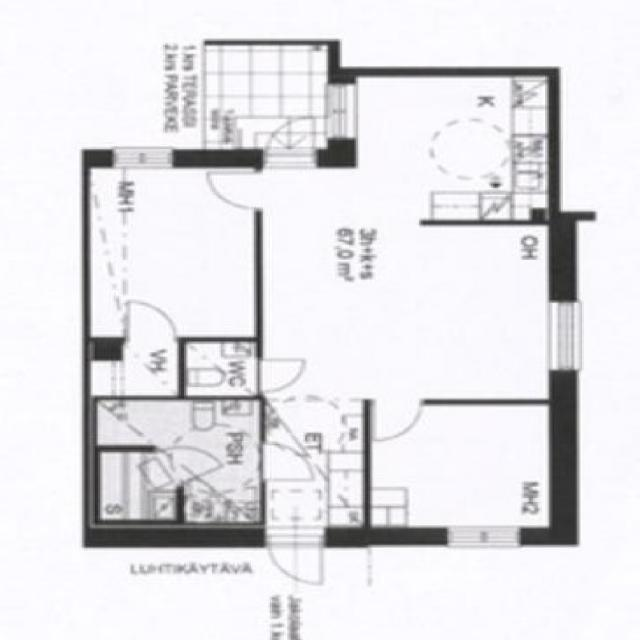door: (147, 432, 222, 488), (267, 527, 325, 589), (267, 112, 316, 166), (256, 443, 313, 479), (211, 172, 266, 208), (374, 395, 420, 438), (130, 303, 172, 343), (256, 360, 306, 391)
